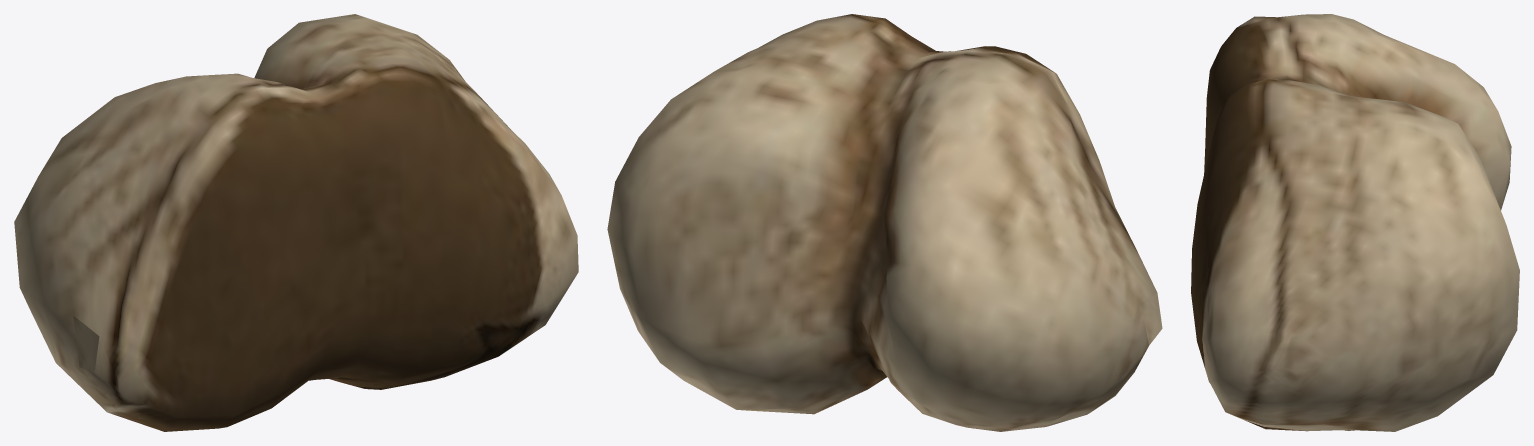
Rendered from Sesamoids.glb.
3 views of the same model, side by side, from view 1: azimuth 30°, elevation 25°; view 2: azimuth 150°, elevation 25°; view 3: azimuth 270°, elevation 25° (orthographic). The views are drawn at different scales.
Visible parts, largest first — view 1: R_Bck_Sesamoids; view 2: R_Bck_Sesamoids; view 3: R_Bck_Sesamoids.
Boxes of the visible parts, x1,y1,x2,y2 form: R_Bck_Sesamoids: [14, 14, 578, 431]; R_Bck_Sesamoids: [607, 14, 1162, 431]; R_Bck_Sesamoids: [1191, 14, 1519, 431].
Size of the model in its own units: 0.0494 by 0.0346 by 0.0314.
Materials: 1 (1 with a texture image).
